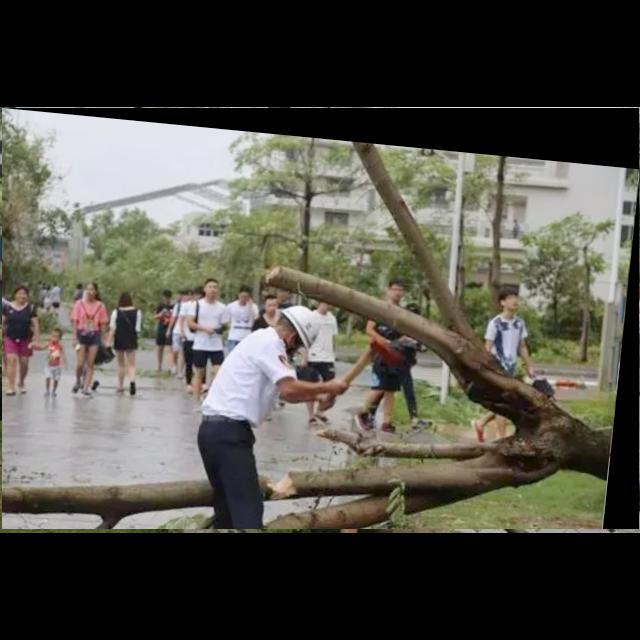fallen_tree: (2, 108, 640, 530)
